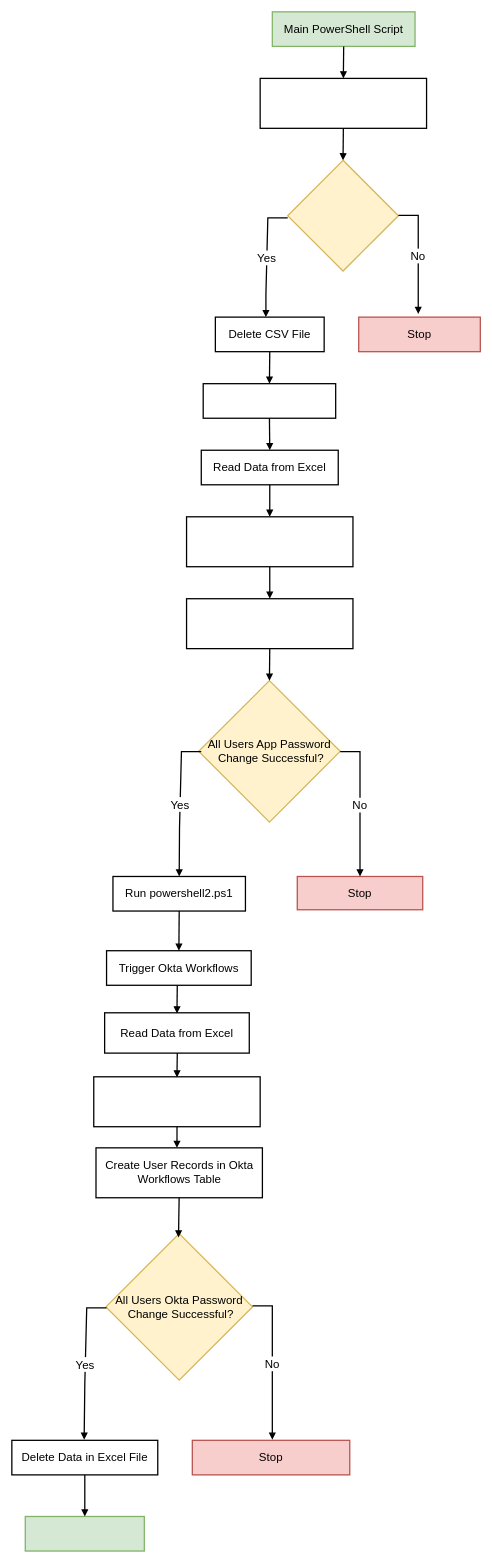
Image size: 492x1562. Some labels were removed from this diagram. Here are the shapes that lost their labels. From the top down, the box of each, then its label:
(259, 77, 427, 129): Copy Data from CSV to Excel
(287, 159, 399, 271): Copy Successful?
(202, 383, 336, 419): Run powershell1 script
(186, 516, 353, 567): Trigger Playwright Python Script
(186, 598, 353, 649): Change User Passwords in Application
(93, 1076, 260, 1127): Change User Passwords in Okta
(24, 1516, 145, 1551): Process Complete
